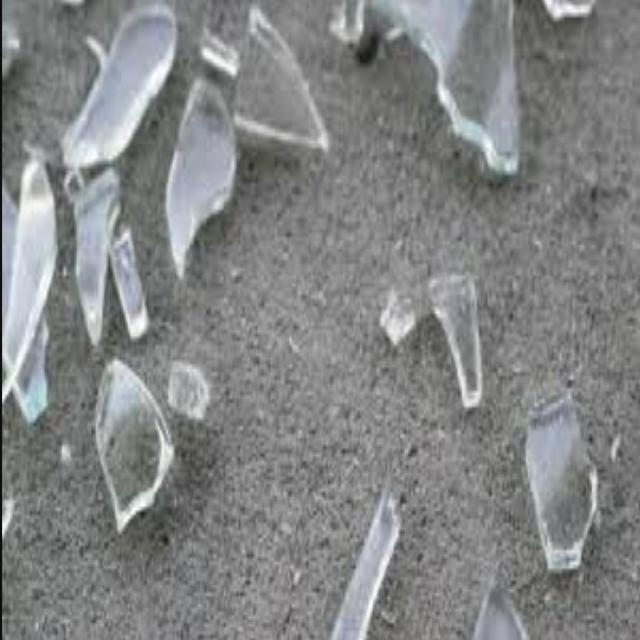PecahanKaca: (377, 266, 484, 411), (93, 356, 175, 534), (523, 388, 599, 574)
